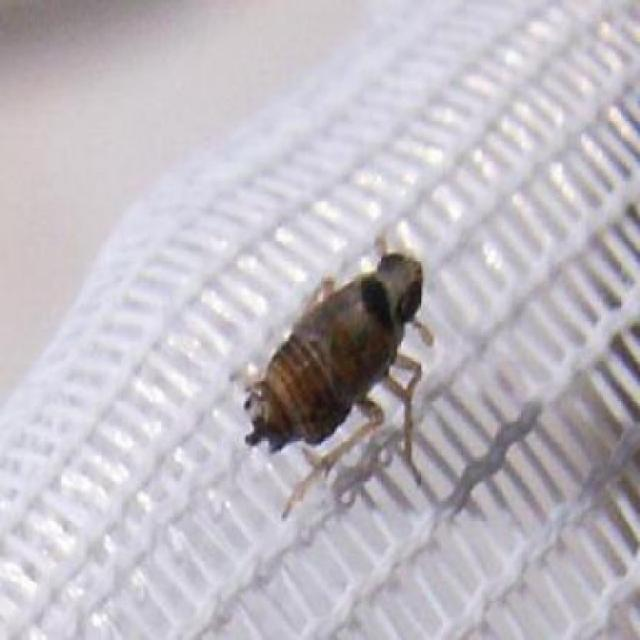brown-planthopper: (239, 240, 443, 474)
